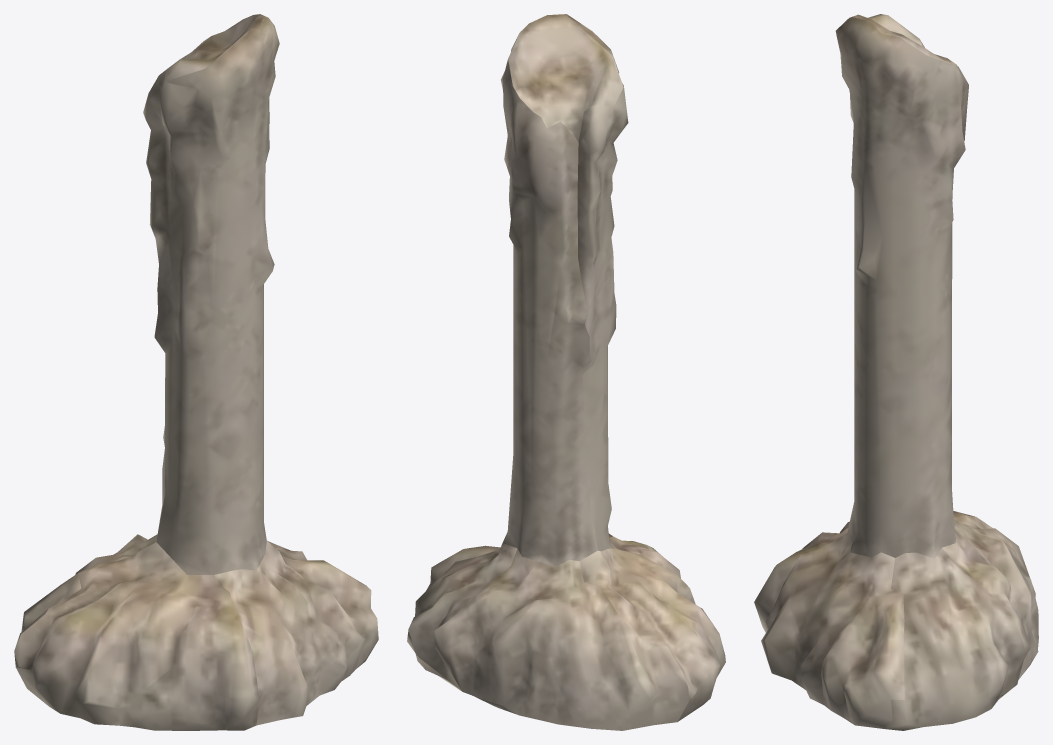
3 views of the same model, side by side, from view 1: azimuth 30°, elevation 25°; view 2: azimuth 150°, elevation 25°; view 3: azimuth 270°, elevation 25° (orthographic). The views are drawn at different scales.
Visible parts, largest first — view 1: SM_Candle03_LOD0; view 2: SM_Candle03_LOD0; view 3: SM_Candle03_LOD0.
Boxes of the visible parts, left/top/right/bottom form: SM_Candle03_LOD0: left=14, top=14, right=378, bottom=730; SM_Candle03_LOD0: left=407, top=14, right=725, bottom=730; SM_Candle03_LOD0: left=754, top=14, right=1038, bottom=730.
Size of the model in its own units: 0.1557 by 0.3102 by 0.1217.
Materials: 1 (1 with a texture image).
